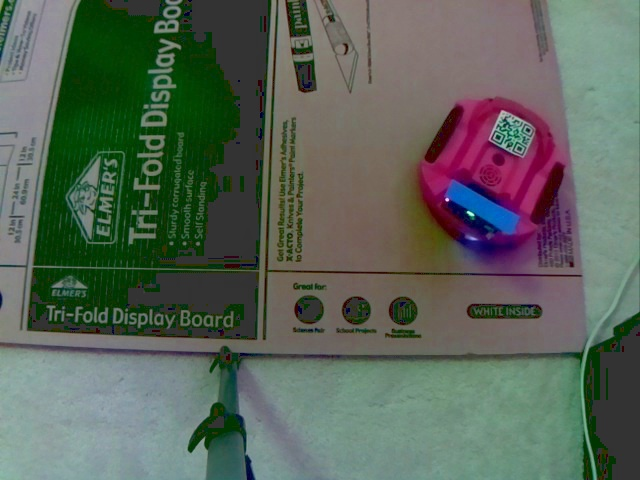board: (438, 176, 522, 242)
chassis: (415, 94, 570, 252)
